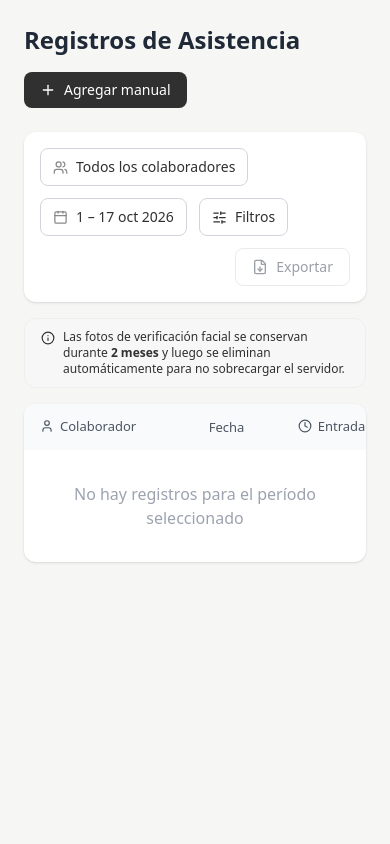
Test: agregar una jornada a mano › un día sin turno lo dice y no borra lo que ya estaba escrito
Click the button "Agregar manual" at (105, 90), box [24, 72, 187, 108]
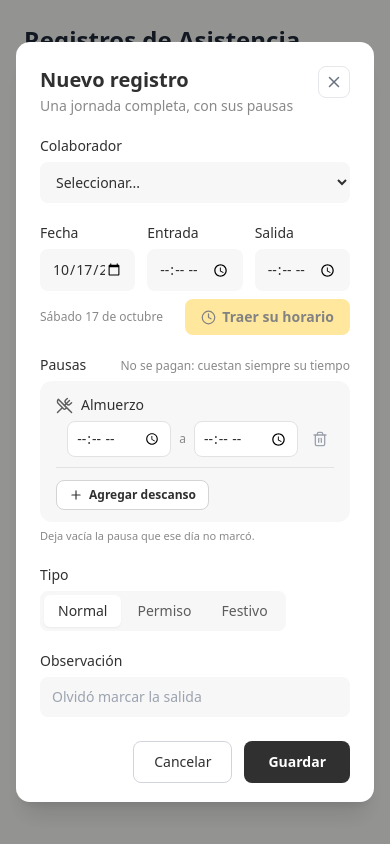
Select "Julián Restrepo" in the dropdown named "Colaborador" at (195, 183), box [40, 162, 350, 203]
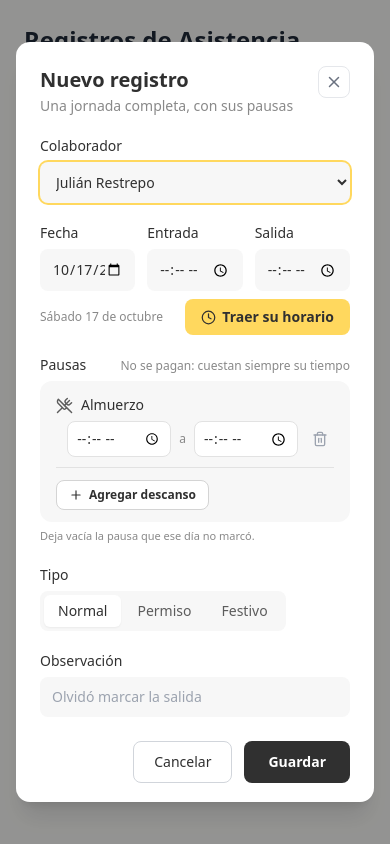
Type "2026-09-07" into the date field named "Fecha" at (88, 270), box [40, 249, 135, 291]
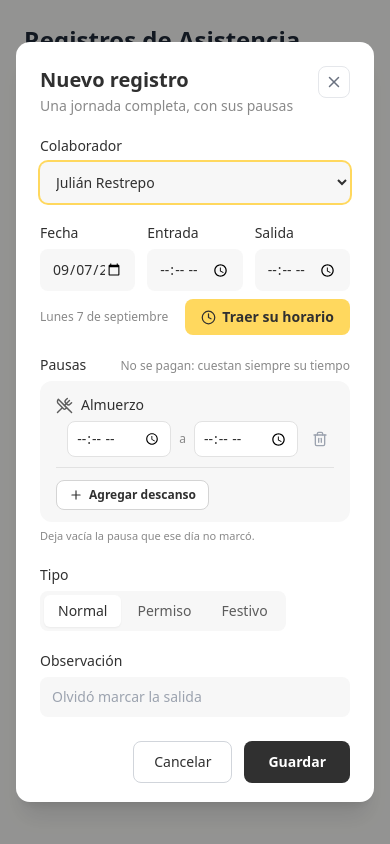
Type "08:00" into the time field named "Entrada" at (195, 270), box [147, 249, 243, 291]
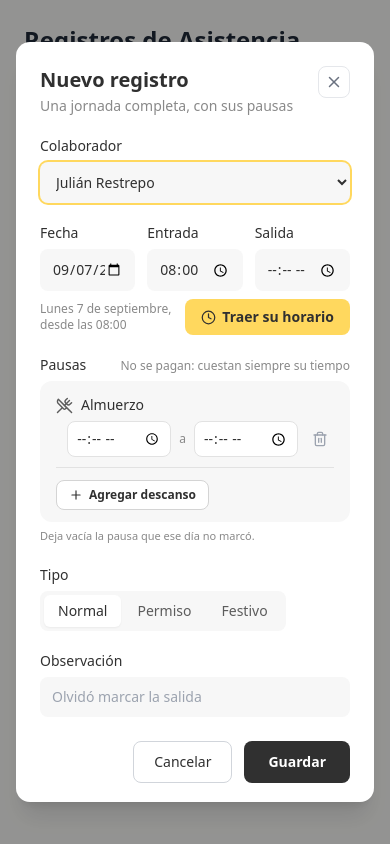
Click the button "Traer su horario" at (268, 317), box [185, 299, 350, 335]
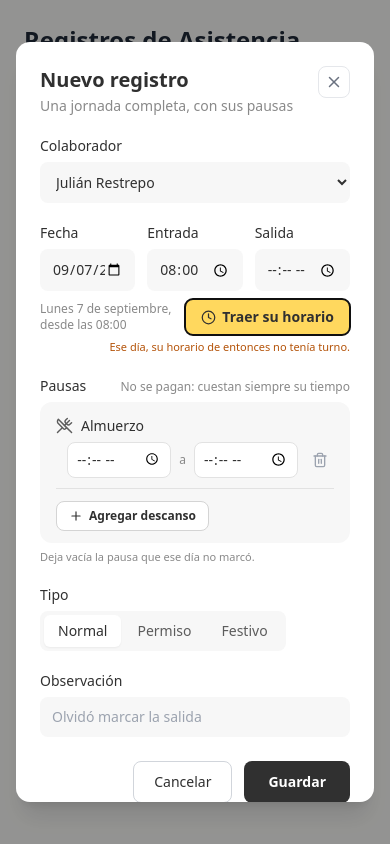
Expected: the text "Ese día, su horario de entonces no tenía turno." is shown, [110, 339, 350, 354]
